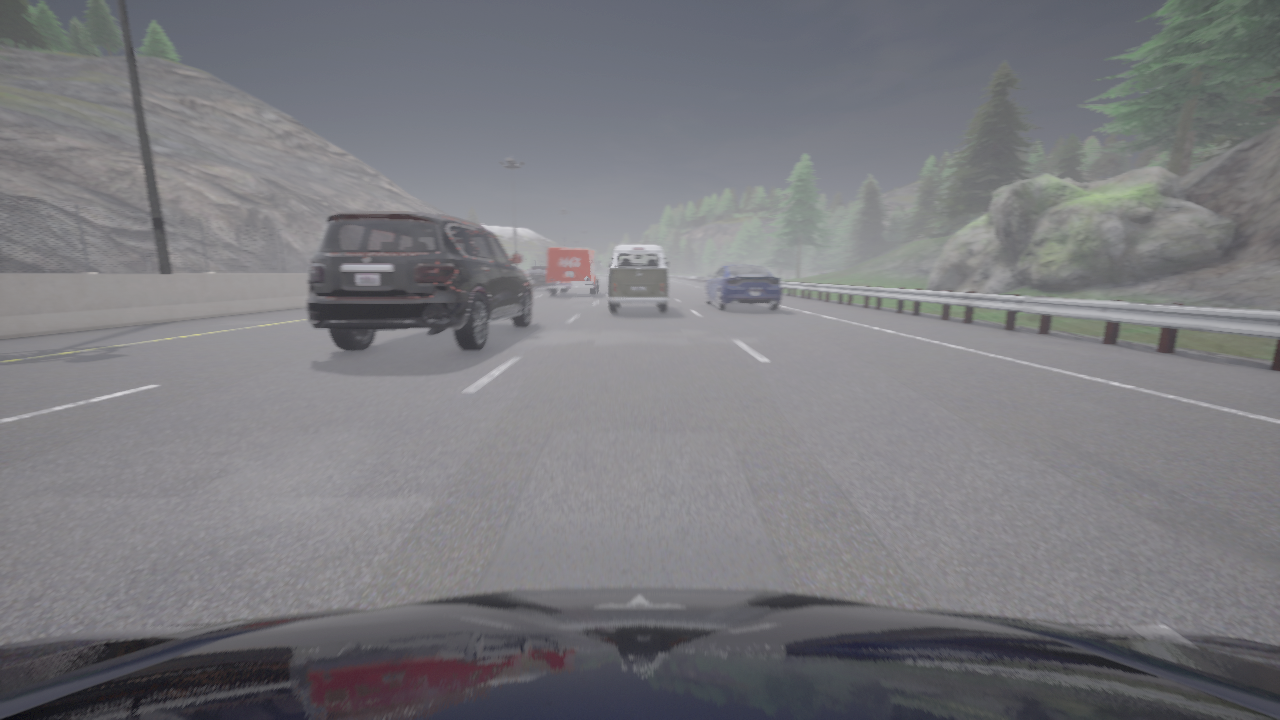cyclist: (0, 588, 1279, 719), (307, 212, 532, 351), (608, 244, 668, 313), (705, 263, 781, 310), (546, 248, 600, 295), (526, 267, 548, 290)
